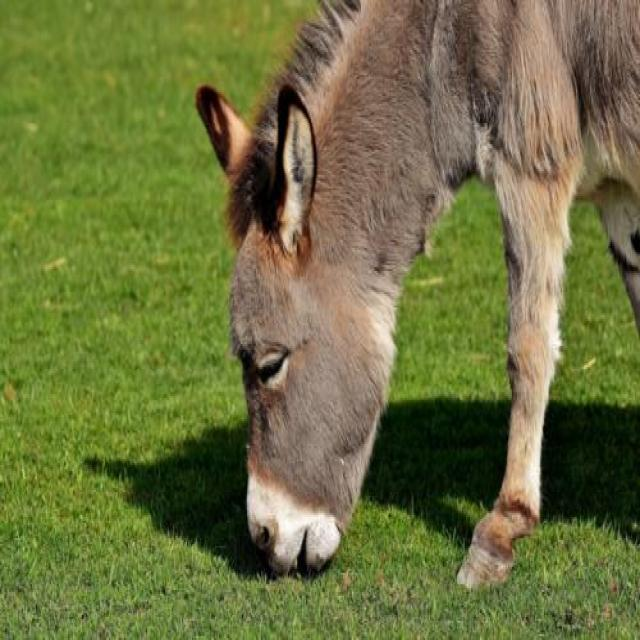Donkey: (195, 0, 640, 590)
